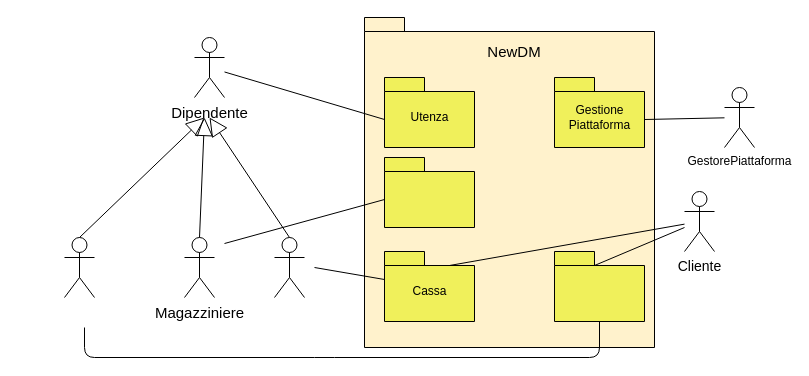
This 809x376 diagram has some shape labels left out. The shapes that lost their labels are listed below. From the top down, each one's centre as x and y in pixels, then its label:
At [429,192]: "Magazzino".
At [79,267]: "AddettoAssistenza".
At [289,267]: "Cassiere".
At [599,286]: "Assistenza".
